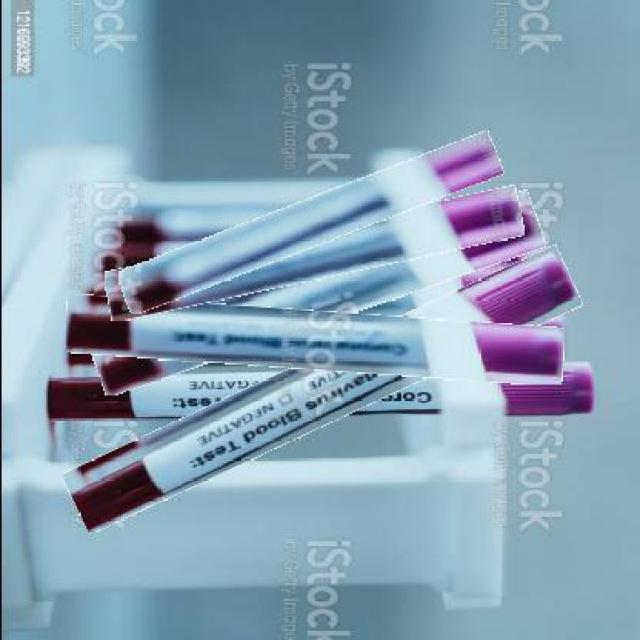Experimental-tube: (55, 301, 587, 479), (85, 226, 546, 360), (112, 166, 506, 280), (102, 206, 523, 300), (64, 302, 562, 378)
